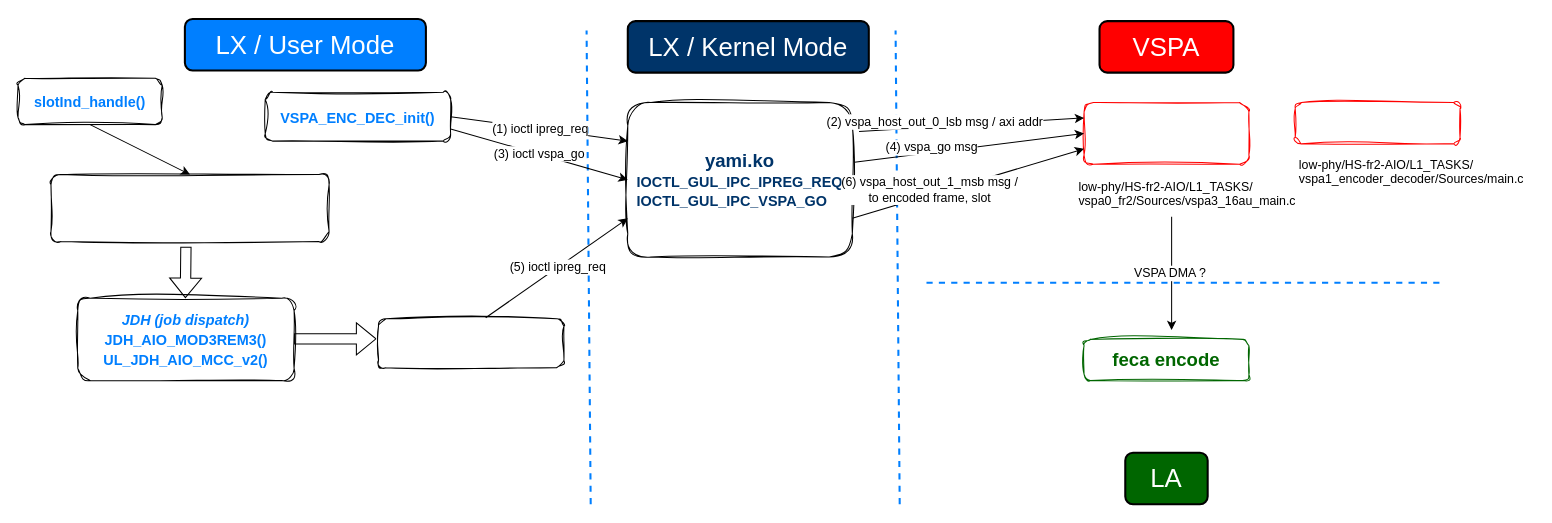
The diagram is 1552 pixels wide and 523 high, and some of its shapes have lost their labels. Here are the shapes that lost their labels. From the top down, the centre of each, then its label:
(1166,132): vspa0 / Encode
(1377,122): vspa0 / MOD3
(189,208): MSG_TYPE_PHY_DL_CONFG_REQ MSG_TYPE_PHY_UL_CONFG_REQ
(470,343): VSPA_ENC_DEC_TASK()
